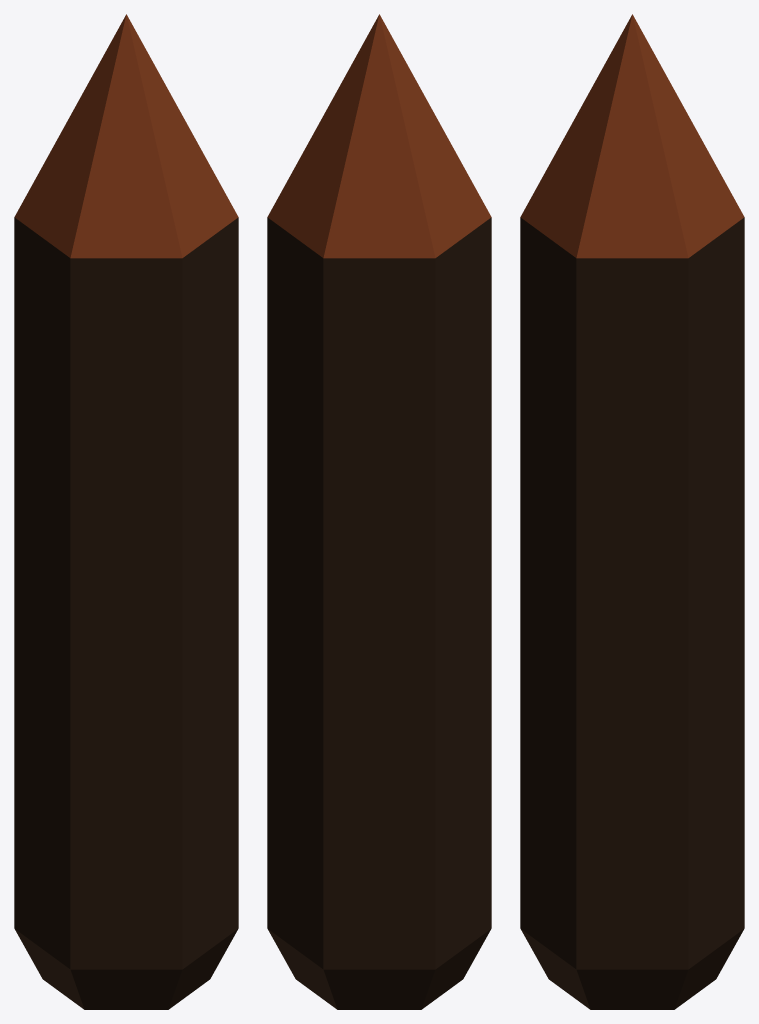
Rendered from Kiymik.fbx.
3 renders of one model, left to right at view 1: azimuth 30°, elevation 25°; view 2: azimuth 150°, elevation 25°; view 3: azimuth 270°, elevation 25°, orthographic.
Visible parts, largest first — view 1: Cylinder; view 2: Cylinder; view 3: Cylinder.
Boxes of the visible parts, <box> form: Cylinder: <box>14,14,238,1009</box>; Cylinder: <box>267,14,491,1009</box>; Cylinder: <box>520,14,744,1009</box>.
Bounding box in the file's own units: 0.1732 × 0.2 × 0.95.
